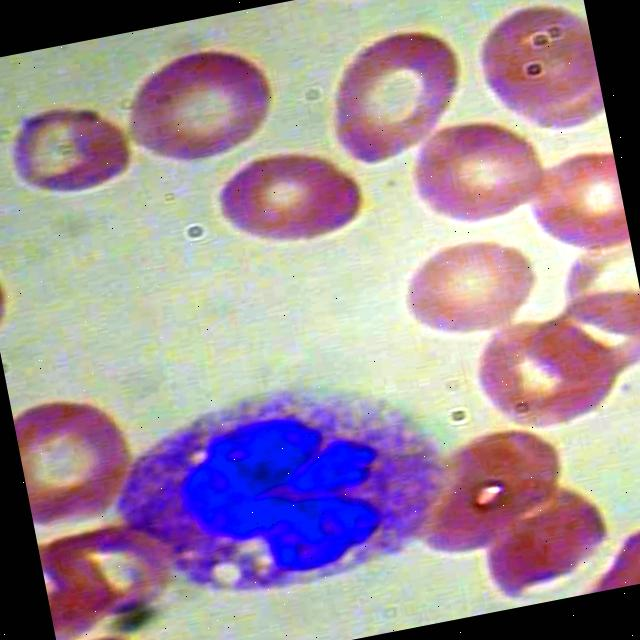RBC: (104, 27, 293, 185), (311, 8, 479, 172), (198, 132, 380, 273), (396, 102, 566, 248), (8, 370, 156, 537), (461, 303, 618, 457), (0, 81, 148, 229), (378, 228, 552, 352), (469, 0, 603, 121)
WBC: (87, 345, 476, 640)
